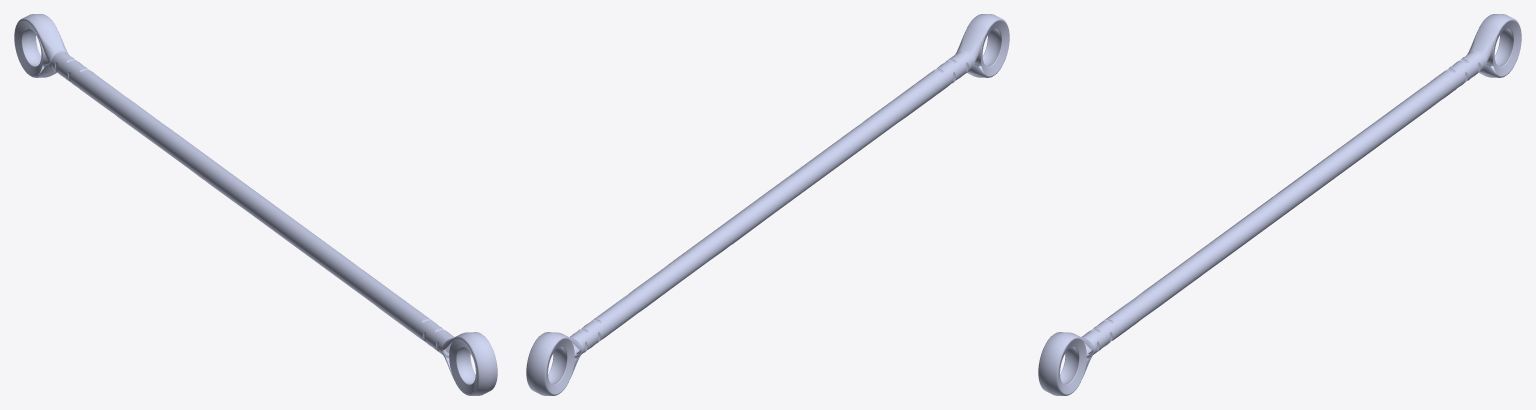
The model's file is IGUS_Delta_Rod.glb.
The picture shows the model from 3 angles, left to right: view 1: azimuth 30°, elevation 25°; view 2: azimuth 150°, elevation 25°; view 3: azimuth 330°, elevation 25°; orthographic projection.
Parts seen in each view (by area): view 1: IGUS_Delta_Rod.IGS (×3); view 2: IGUS_Delta_Rod.IGS (×3); view 3: IGUS_Delta_Rod.IGS (×3).
Boxes of the visible parts, <box> form: IGUS_Delta_Rod.IGS (×3): <box>14,14,497,395</box>; IGUS_Delta_Rod.IGS (×3): <box>526,14,1009,395</box>; IGUS_Delta_Rod.IGS (×3): <box>1038,14,1521,395</box>.
Bounding box in the file's own units: 0.0105 × 0.03 × 0.43.
